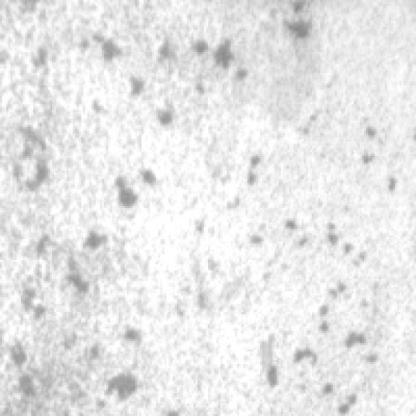pitted_surface: (72, 33, 406, 414)
